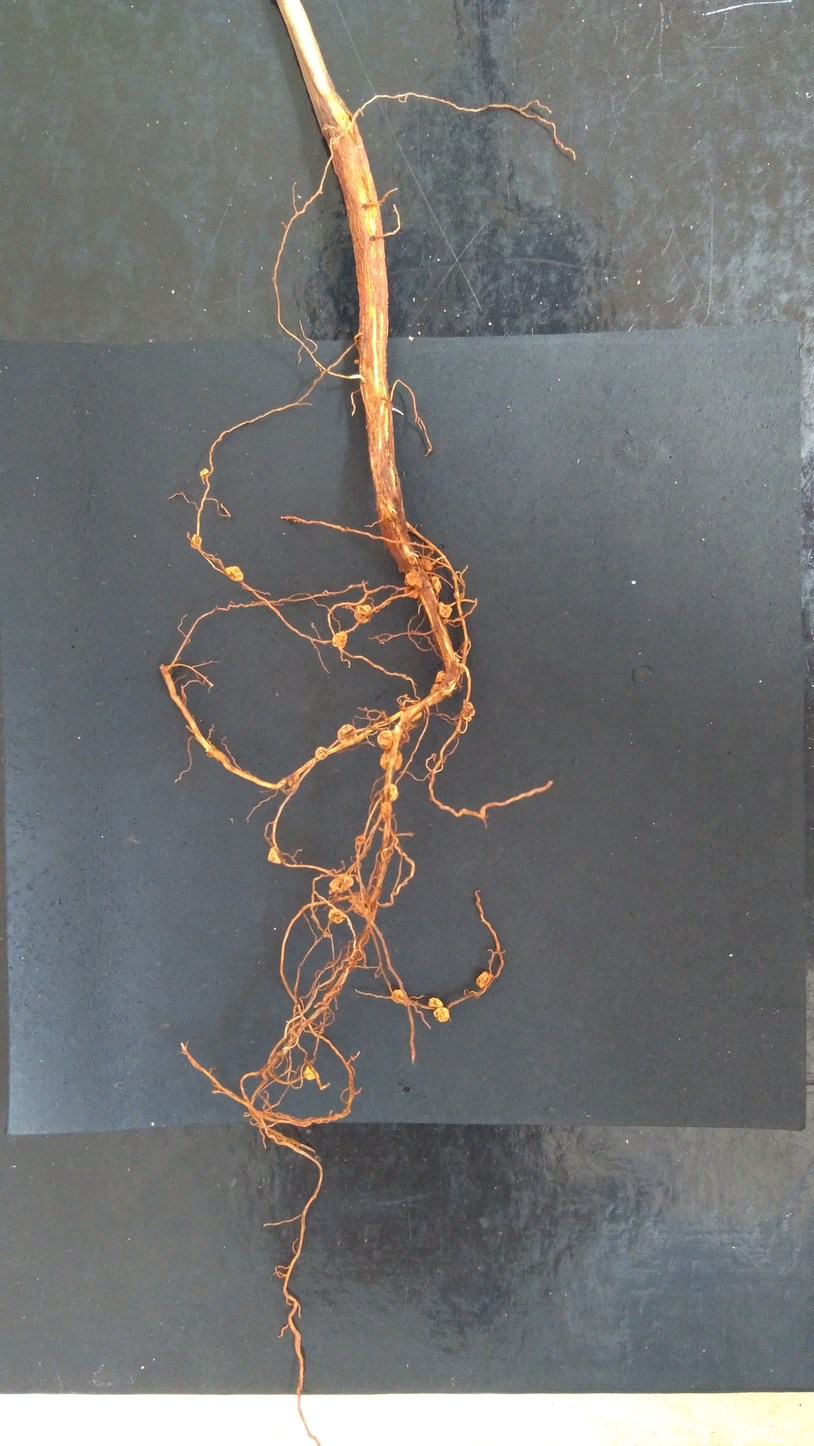nodule: (328, 872, 355, 893), (351, 603, 375, 625), (336, 721, 358, 745), (402, 569, 425, 590), (223, 564, 246, 584), (375, 729, 394, 751), (474, 970, 494, 990), (327, 907, 347, 925), (266, 845, 283, 866), (461, 700, 477, 722), (432, 1006, 451, 1024), (331, 629, 348, 649), (190, 531, 206, 552), (390, 988, 407, 1005), (437, 601, 453, 619), (387, 781, 400, 803), (379, 749, 392, 770), (403, 585, 421, 600), (301, 1064, 316, 1082), (352, 901, 368, 917), (434, 670, 449, 686), (314, 745, 329, 761), (394, 749, 404, 773), (349, 891, 368, 903), (418, 557, 433, 572), (426, 996, 444, 1008), (197, 467, 212, 481), (431, 575, 442, 594), (354, 833, 367, 847), (287, 774, 300, 787), (407, 555, 417, 566)
